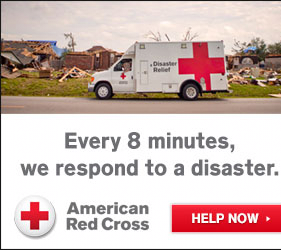fake_button: (164, 201, 281, 239)
